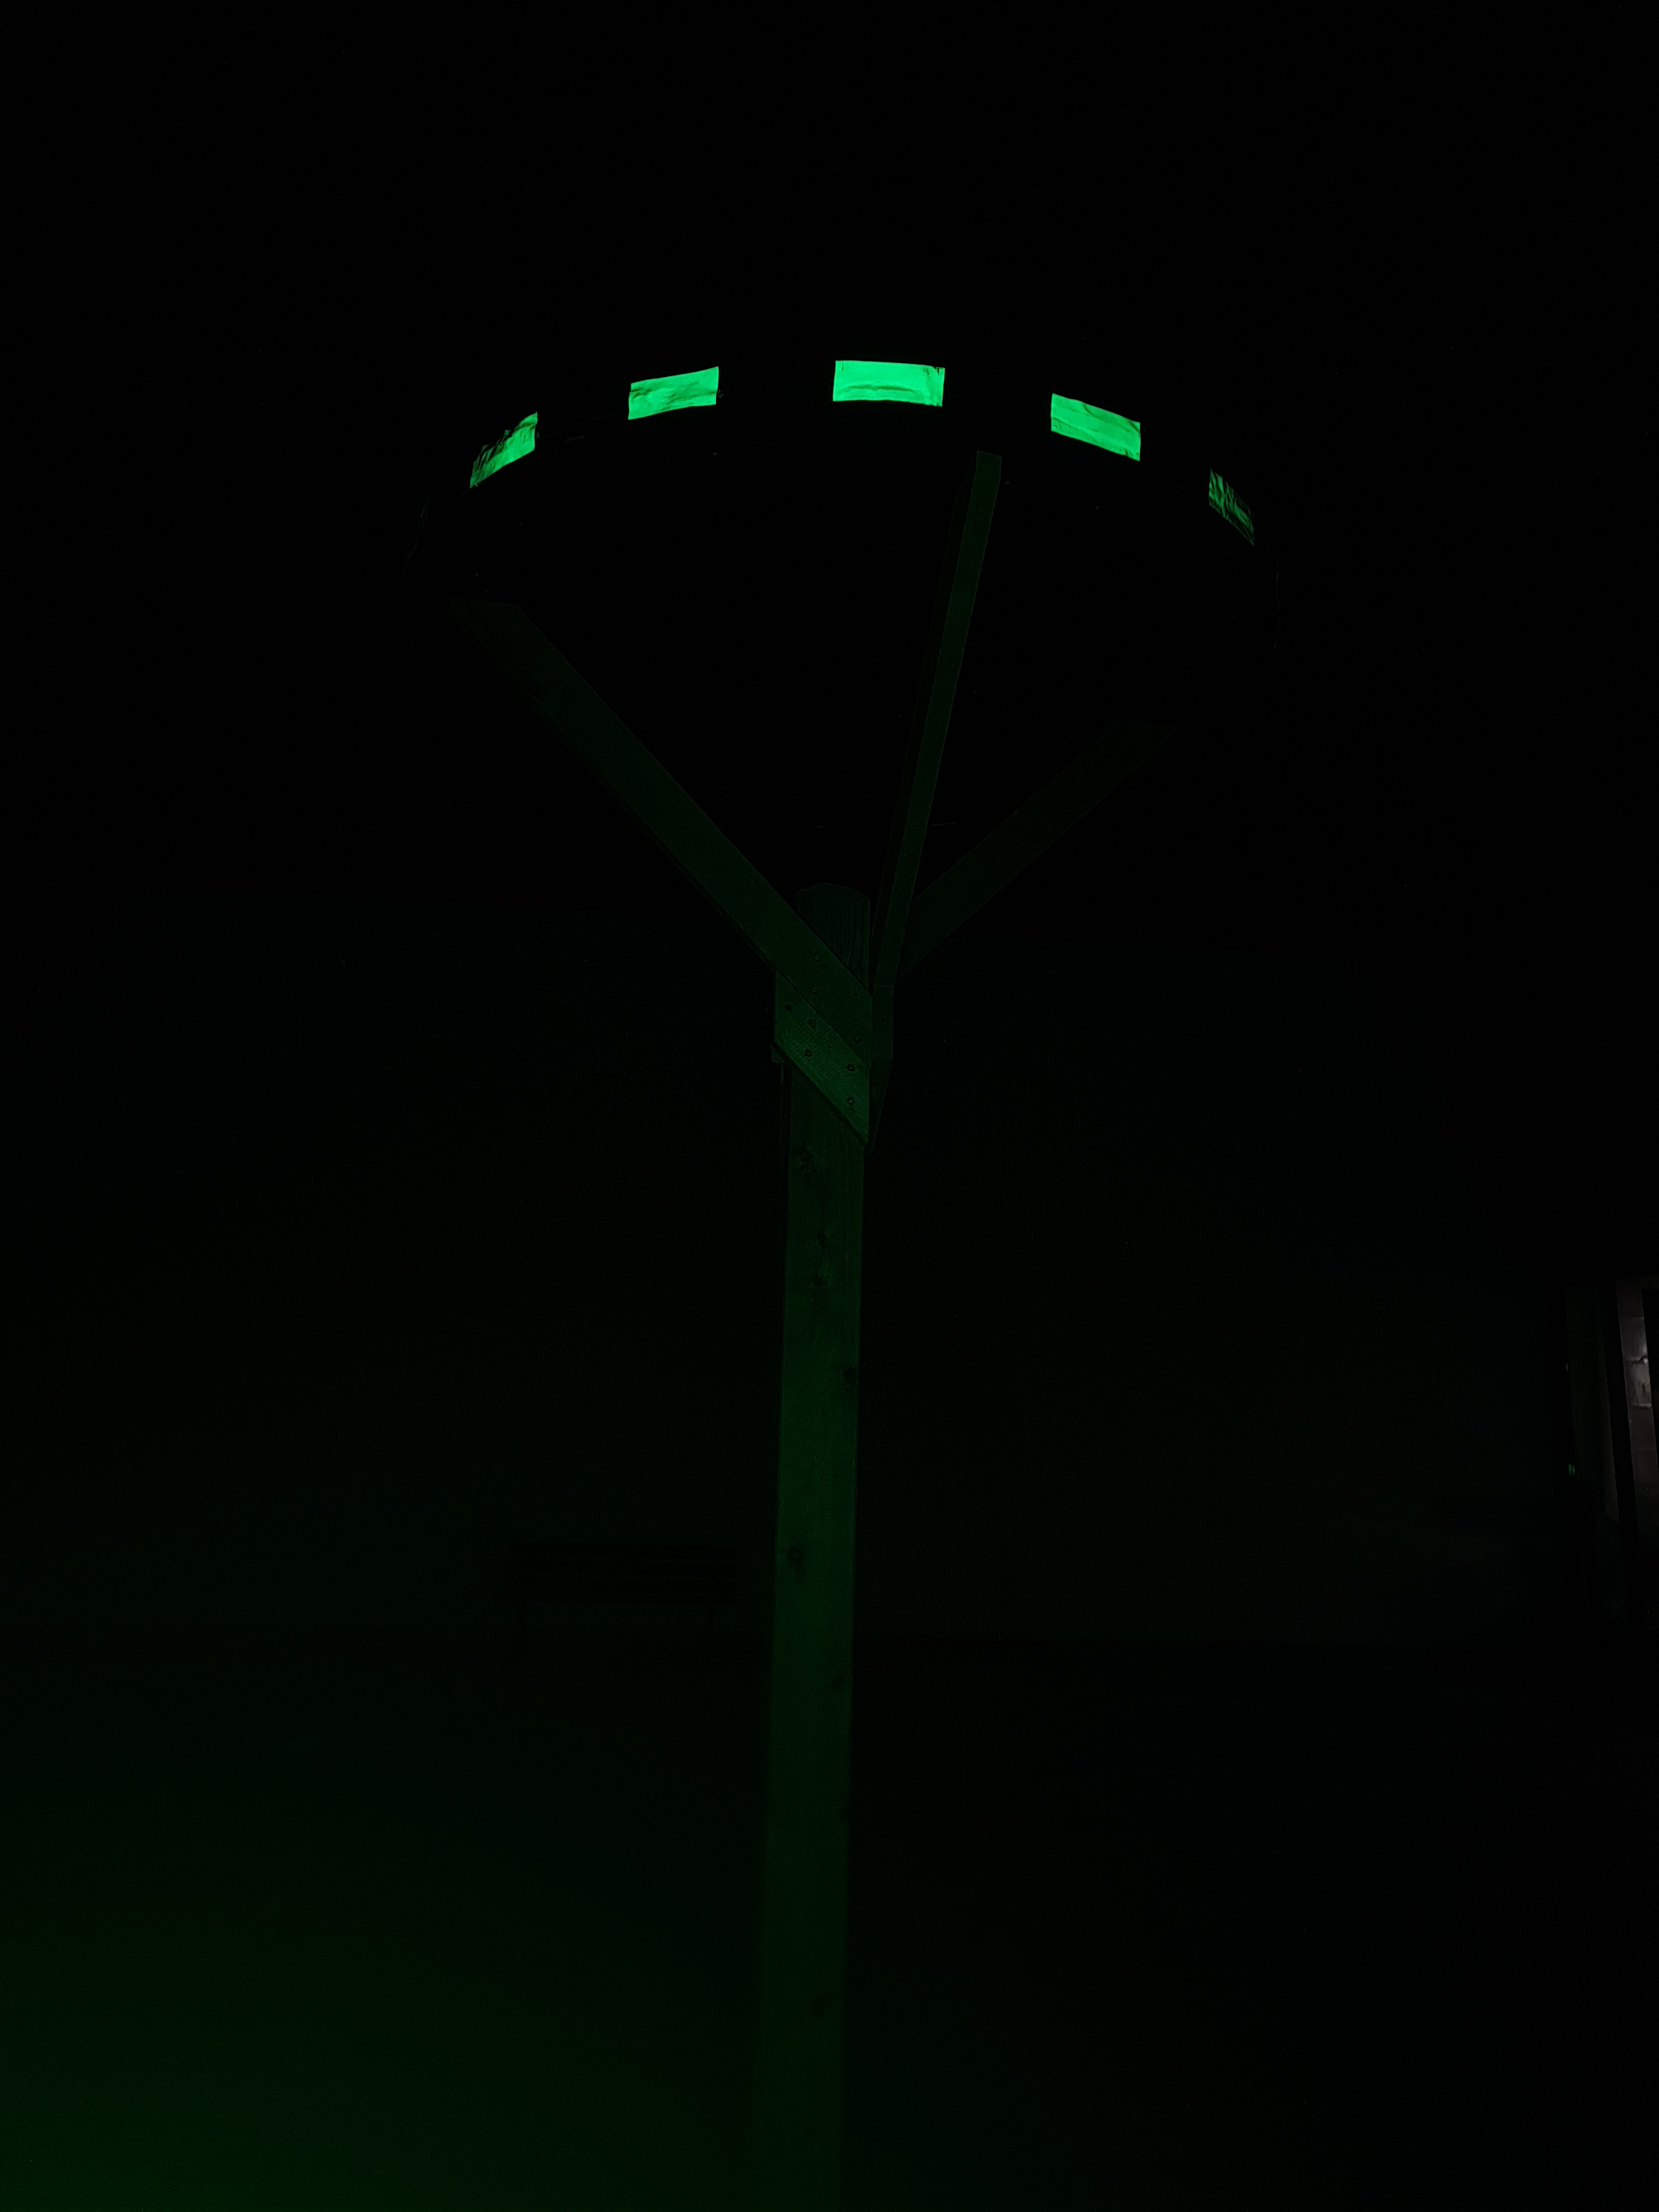hoop: (462, 354, 1260, 543)
